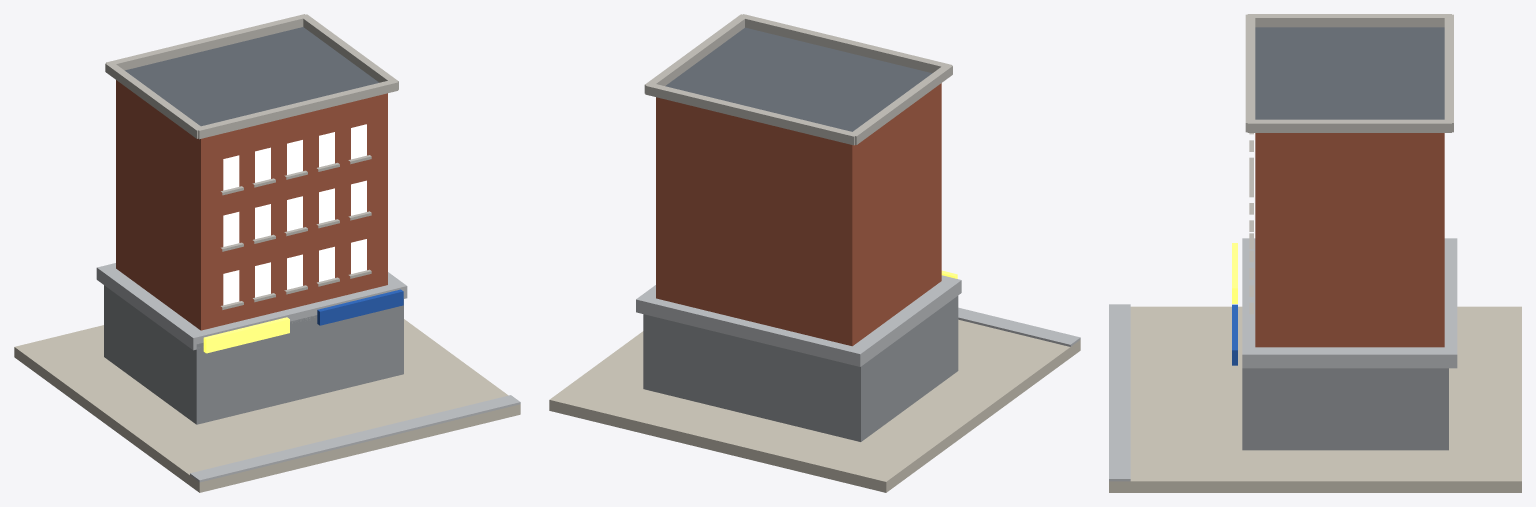
3 renders of one model, left to right at view 1: azimuth 30°, elevation 25°; view 2: azimuth 150°, elevation 25°; view 3: azimuth 270°, elevation 25°, orthographic. The views are drawn at different scales.
Parts seen in each view (by area): view 1: b09_v2_lod1; view 2: b09_v2_lod1; view 3: b09_v2_lod1.
Part boxes in pixels (left/top/right/bottom): b09_v2_lod1: left=14, top=14, right=520, bottom=492; b09_v2_lod1: left=549, top=14, right=1080, bottom=492; b09_v2_lod1: left=1109, top=14, right=1521, bottom=492.
Size of the model in its own units: 0.96 by 0.864 by 0.96.
